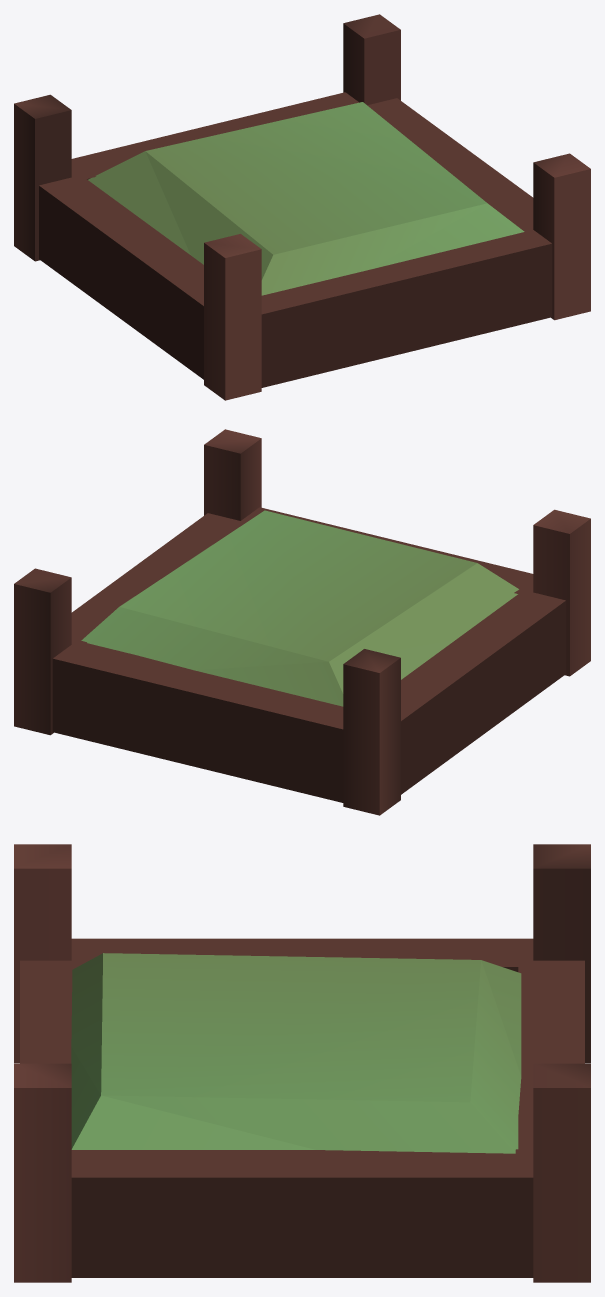
The model's file is Prop_PlanterDLOD2.fbx.
3 views of the same model, one above another, from view 1: azimuth 30°, elevation 25°; view 2: azimuth 150°, elevation 25°; view 3: azimuth 270°, elevation 25° (orthographic). The views are drawn at different scales.
Visible parts, largest first — view 1: Prop_PlanterDLOD2; view 2: Prop_PlanterDLOD2; view 3: Prop_PlanterDLOD2.
Part boxes in pixels (x1,y1,x2,y2): Prop_PlanterDLOD2: (14,14,590,400); Prop_PlanterDLOD2: (14,429,590,815); Prop_PlanterDLOD2: (14,844,590,1282).
Size of the model in its own units: 200 by 74.45 by 200.
